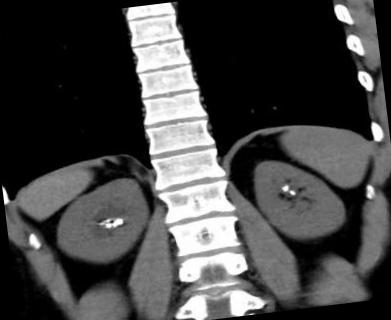Tas_Var: (111, 216, 124, 229), (279, 182, 290, 192), (104, 222, 115, 230), (288, 188, 296, 196), (98, 221, 107, 226), (104, 217, 112, 222)
